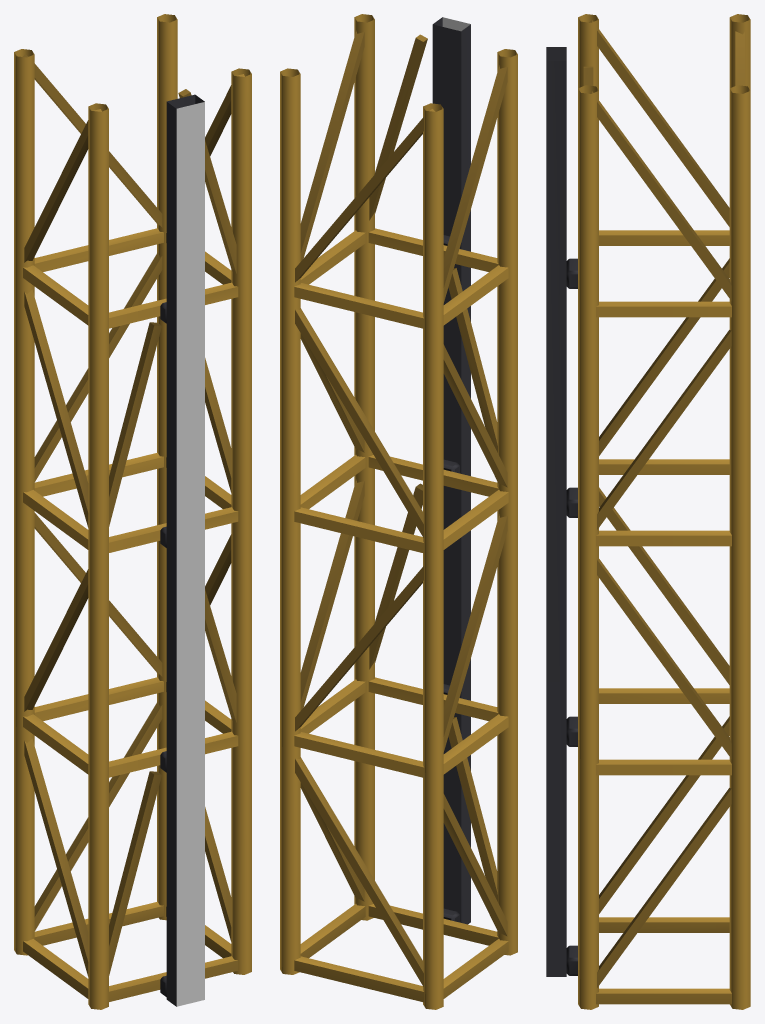
File: HoistMast.fbx
The picture shows the model from 3 angles, left to right: view 1: azimuth 30°, elevation 25°; view 2: azimuth 150°, elevation 25°; view 3: azimuth 270°, elevation 25°; orthographic projection.
Visible parts, largest first — view 1: HoistMast; view 2: HoistMast; view 3: HoistMast.
Boxes of the visible parts, box(x1,y1,x2,y2) form: HoistMast: box(14, 14, 251, 1009); HoistMast: box(280, 14, 517, 1009); HoistMast: box(546, 14, 750, 1009).
Size of the model in its own units: 0.5618 by 3 by 0.6059.
